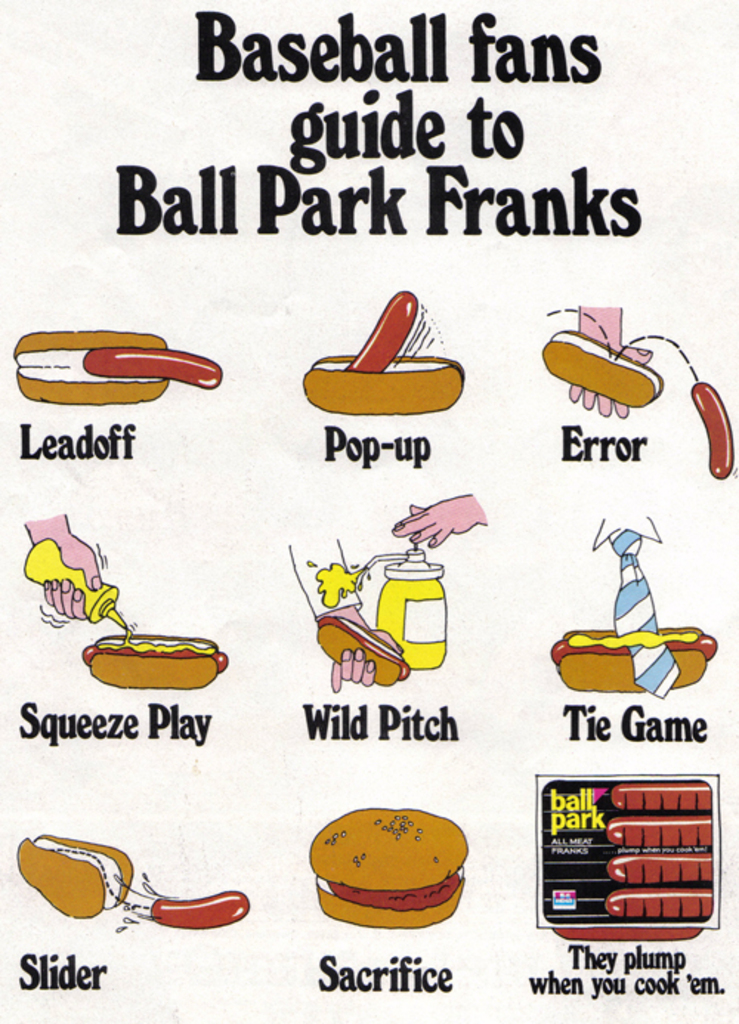hot_dog: (300, 291, 460, 415), (13, 325, 223, 403), (75, 625, 232, 699), (551, 625, 714, 690), (316, 616, 408, 687)
